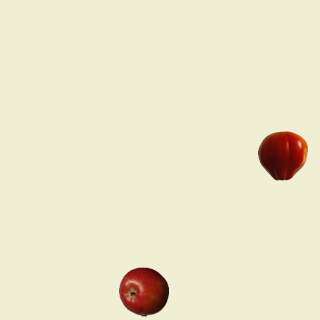Apple Braeburn: (118, 266, 168, 316)
Tomato 1: (257, 130, 307, 180)
